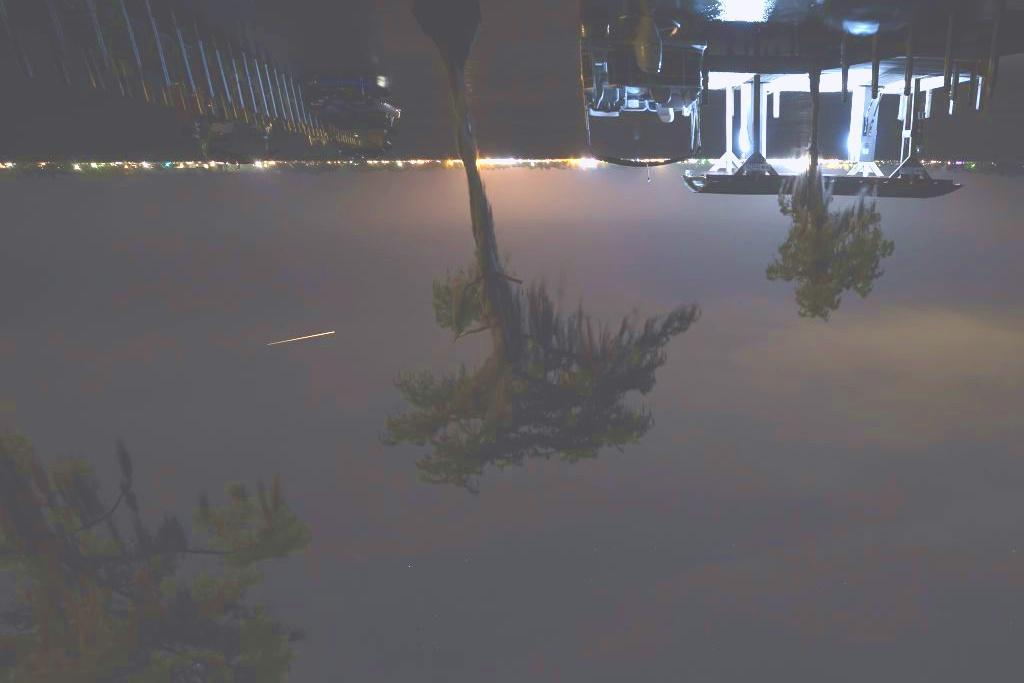meteorite: (243, 319, 353, 360)
